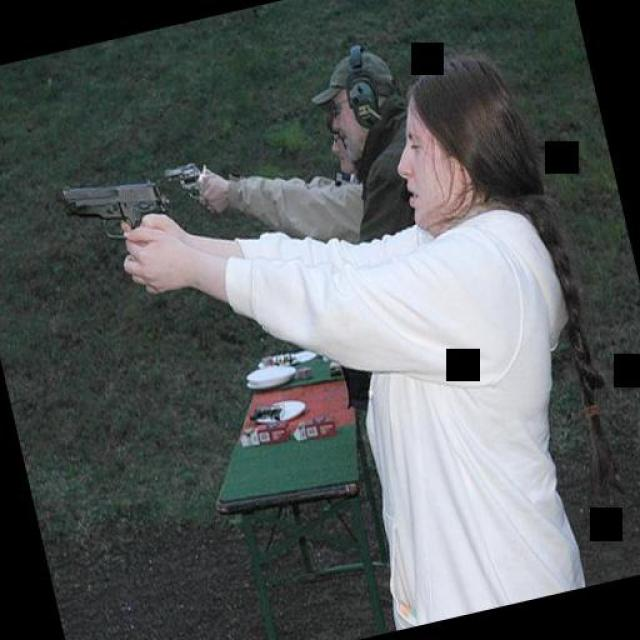gun: (58, 160, 178, 265), (158, 152, 212, 208)
